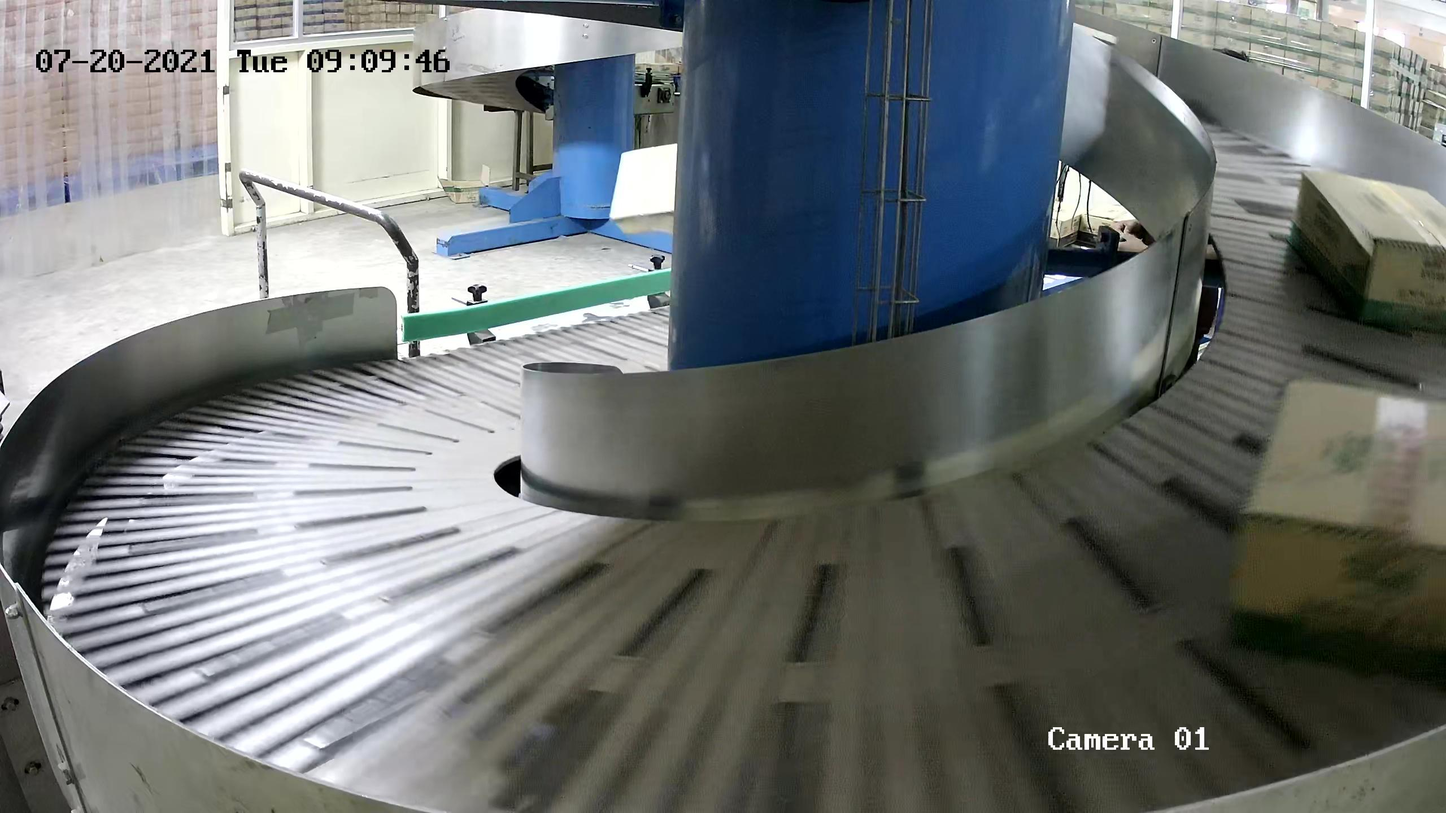Box: (1231, 370, 1446, 664), (1288, 160, 1446, 333)
